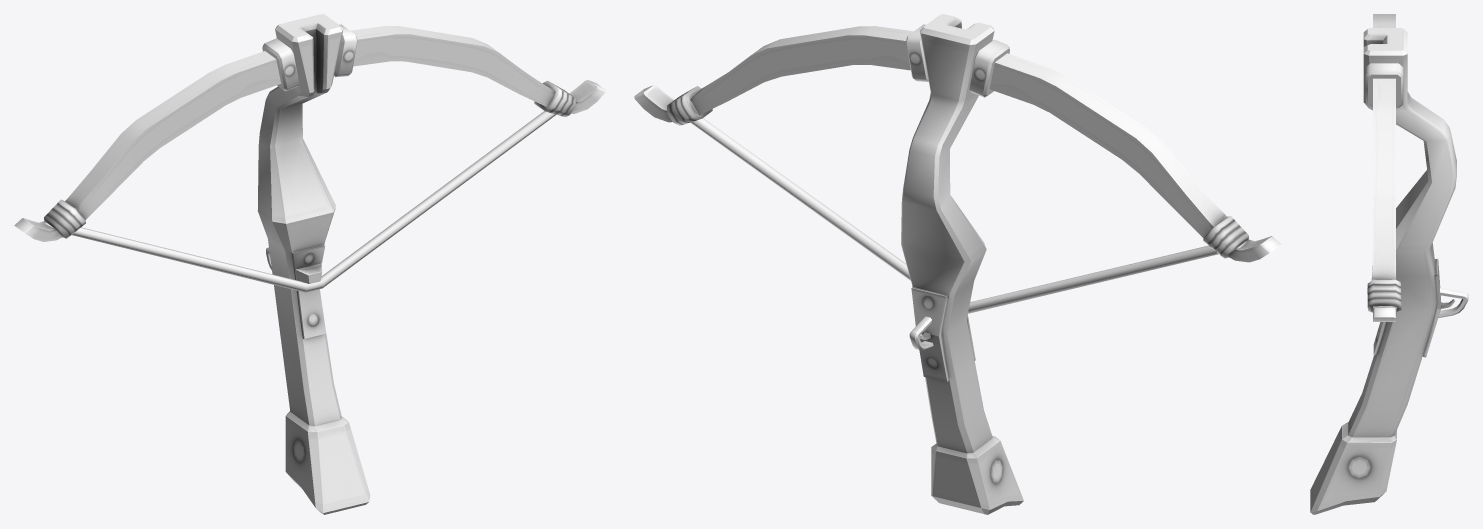
The model's file is 026_crossbow.fbx.
The picture shows the model from 3 angles, left to right: view 1: azimuth 30°, elevation 25°; view 2: azimuth 150°, elevation 25°; view 3: azimuth 270°, elevation 25°; orthographic projection. The views are drawn at different scales.
Visible parts, largest first — view 1: 026_a_crossbow_low; view 2: 026_a_crossbow_low; view 3: 026_a_crossbow_low.
Boxes of the visible parts, box(x1,y1,x2,y2) form: 026_a_crossbow_low: box(14, 14, 605, 514); 026_a_crossbow_low: box(634, 14, 1281, 514); 026_a_crossbow_low: box(1310, 14, 1468, 514).
Bounding box in the file's own units: 96.61 × 72.61 × 22.36.
